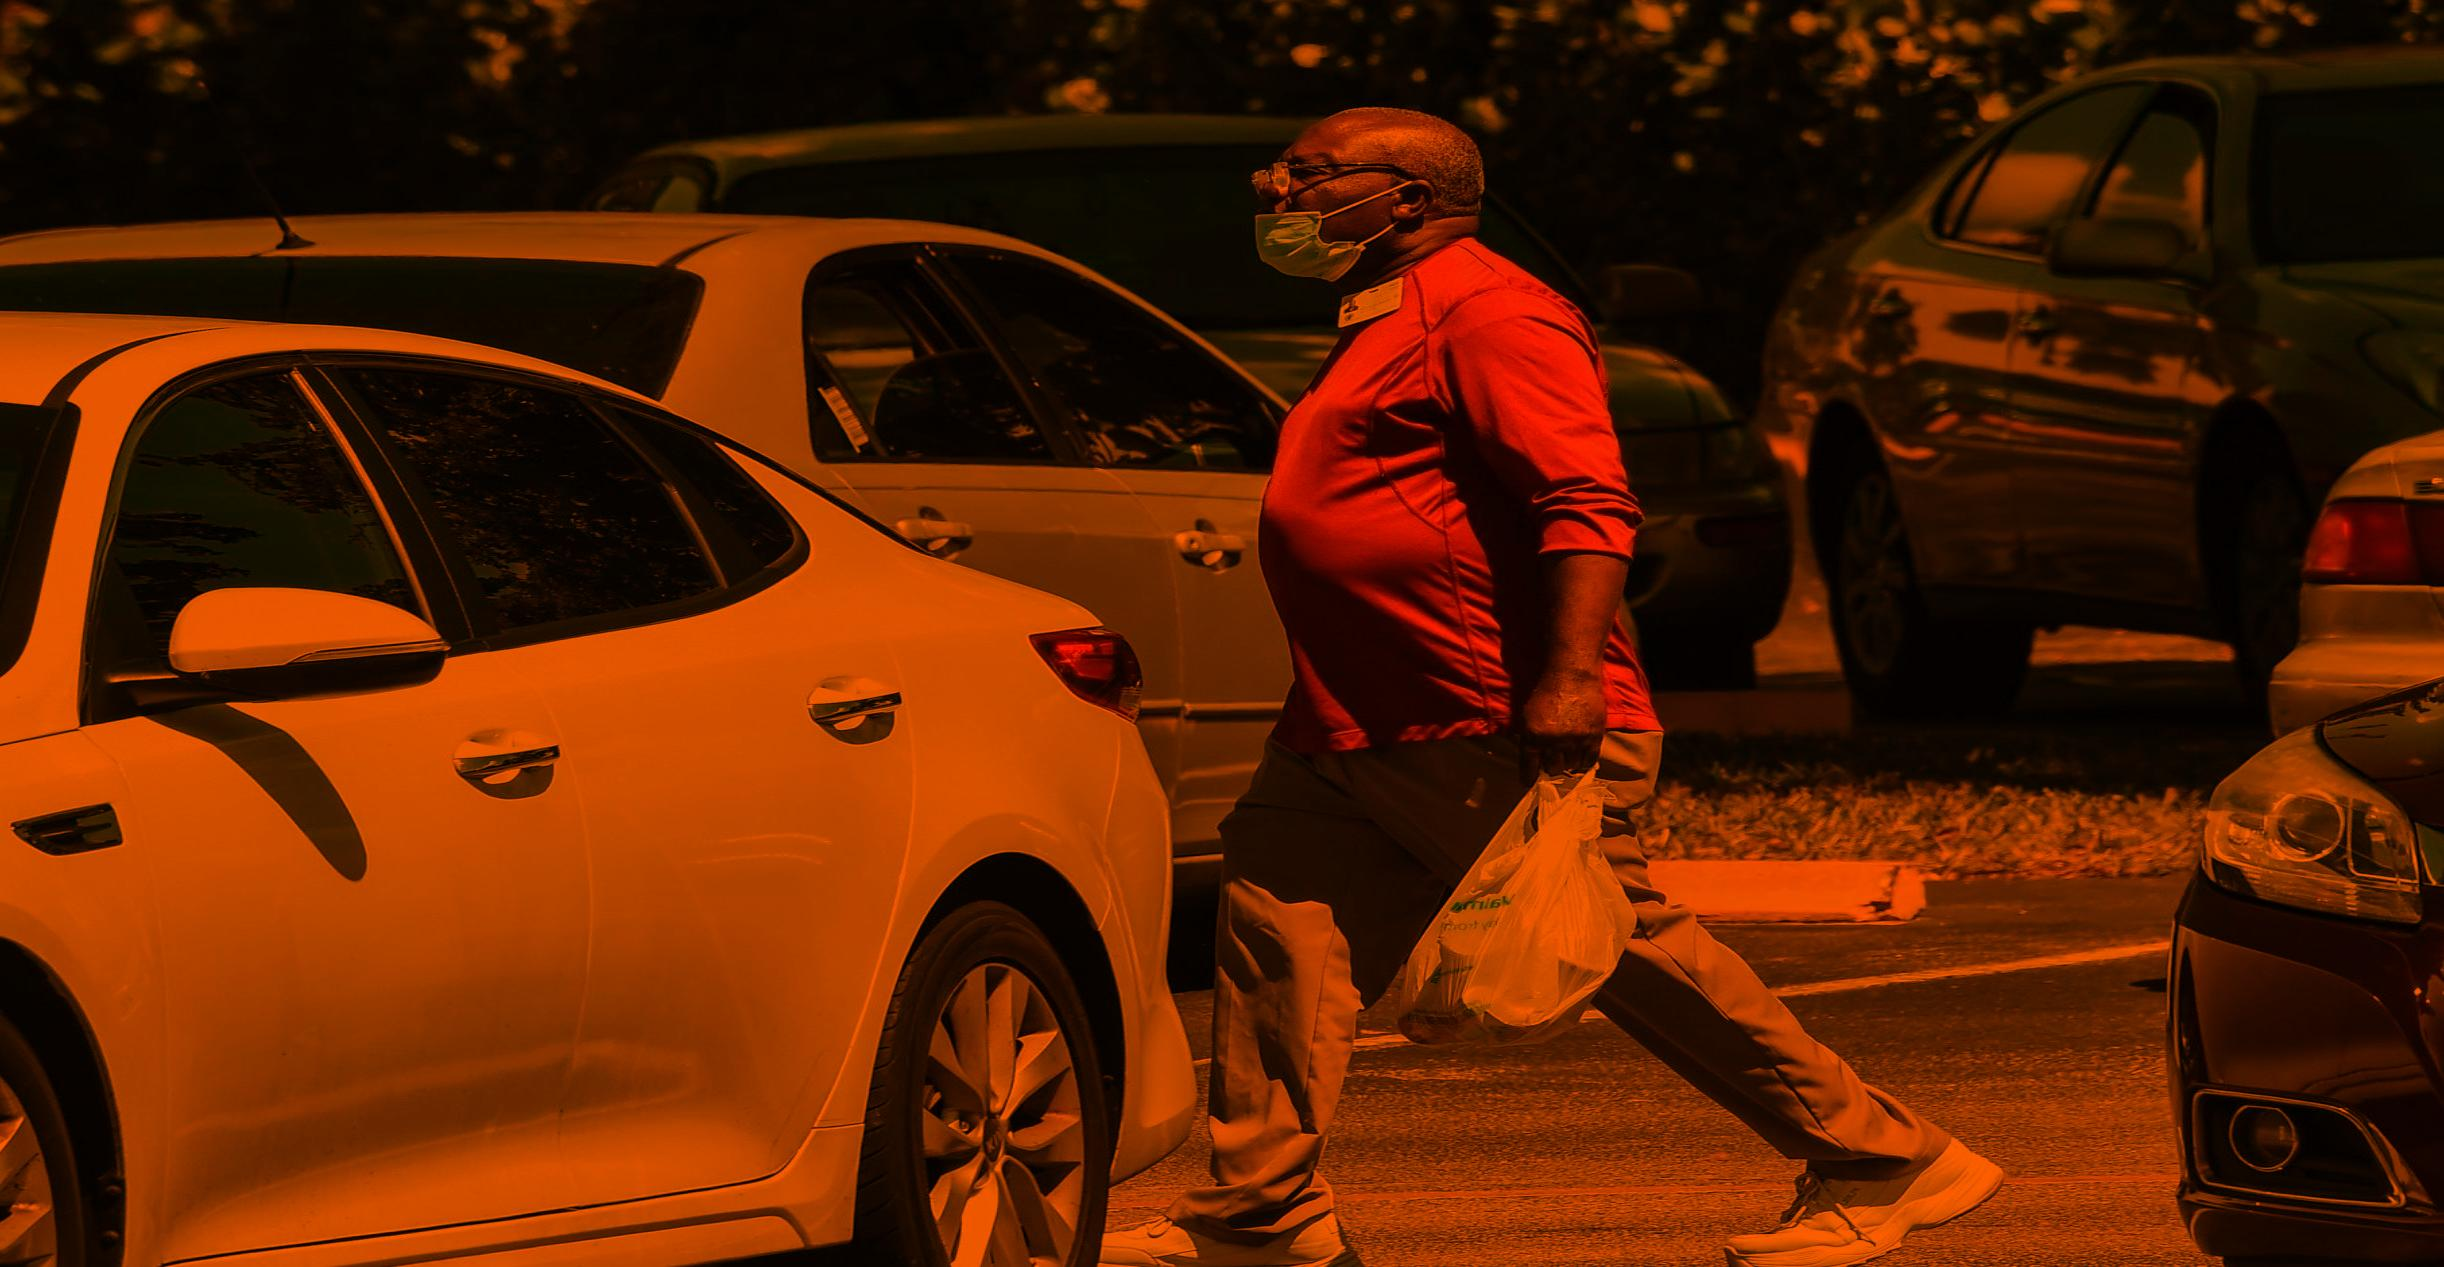mask_weared_incorrect: (1204, 98, 1455, 318), (1239, 106, 1501, 295)
